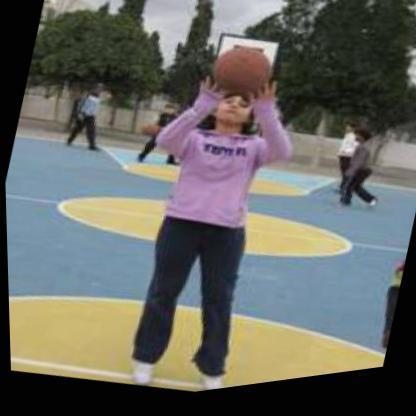basketball: (207, 44, 276, 110)
